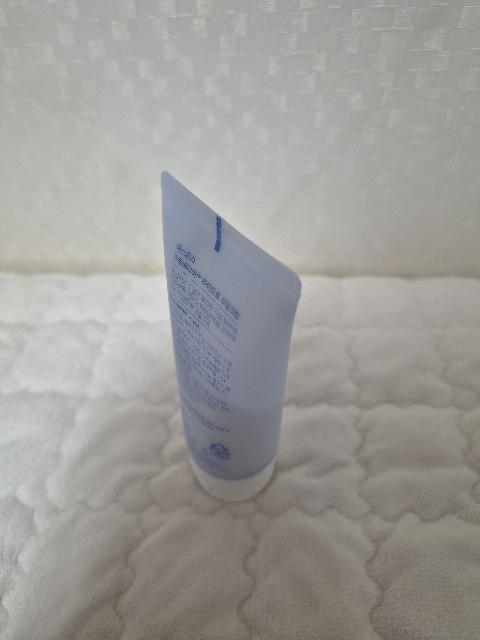handcream: (160, 171, 302, 502)
